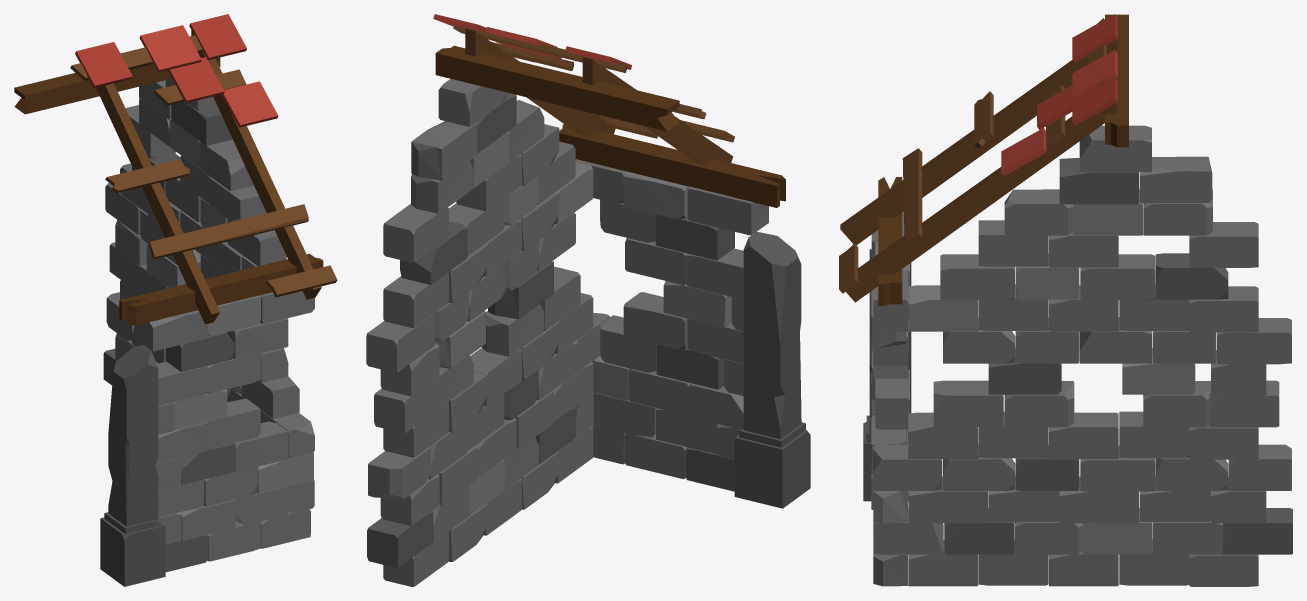
The model's file is Ruins_05.fbx.
3 views of the same model, side by side, from view 1: azimuth 30°, elevation 25°; view 2: azimuth 150°, elevation 25°; view 3: azimuth 270°, elevation 25° (orthographic). The views are drawn at different scales.
Parts seen in each view (by area): view 1: Ruins_05_LOD0; view 2: Ruins_05_LOD0; view 3: Ruins_05_LOD0.
Part boxes in pixels (x1,y1,x2,y2): Ruins_05_LOD0: (14,14,337,586); Ruins_05_LOD0: (366,14,810,586); Ruins_05_LOD0: (839,14,1292,586).
Size of what is drawn, in the model's own units: 259 by 506 by 417.
